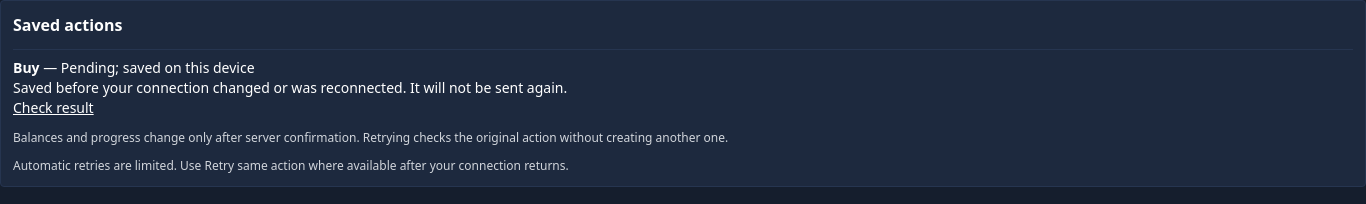
saved-result controls remain scoped during asynchronous work › enables the new account’s check and suppresses old result/error after a switch
The image size is (1366, 204).
Later steps or results of the test are not shown.
What coordinates should you click on to do the following:
click the button "Check result"
I would click on:
 (53, 108)
Its box is [13,98,94,118].
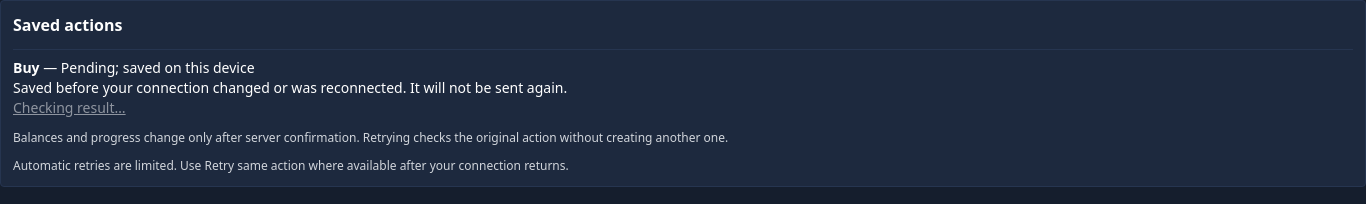
Check: the button "Checking result…" is disabled, box [13,98,126,118]
